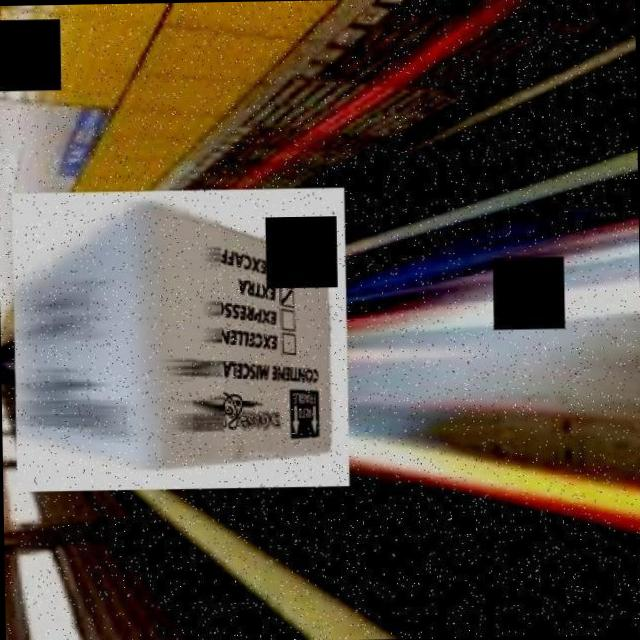box: (5, 182, 354, 496)
